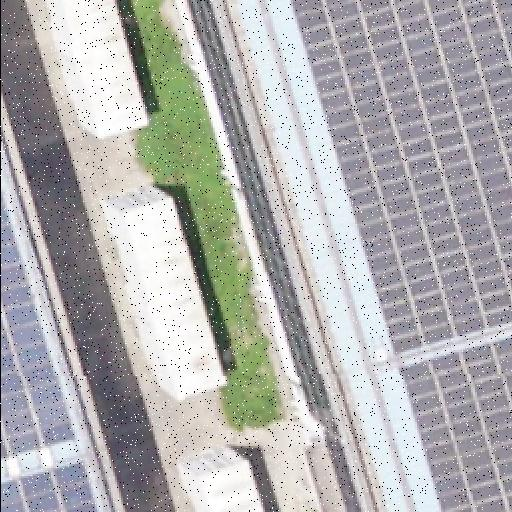solar-panel: (289, 0, 511, 352), (0, 191, 76, 457), (400, 336, 512, 512), (0, 460, 100, 512)
